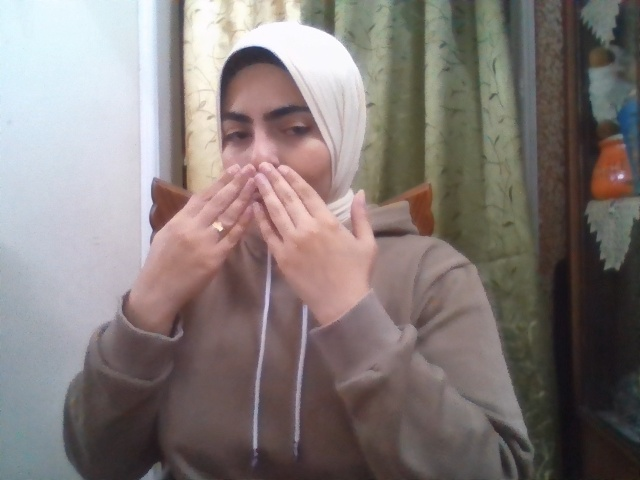thanks: (132, 163, 376, 305)
